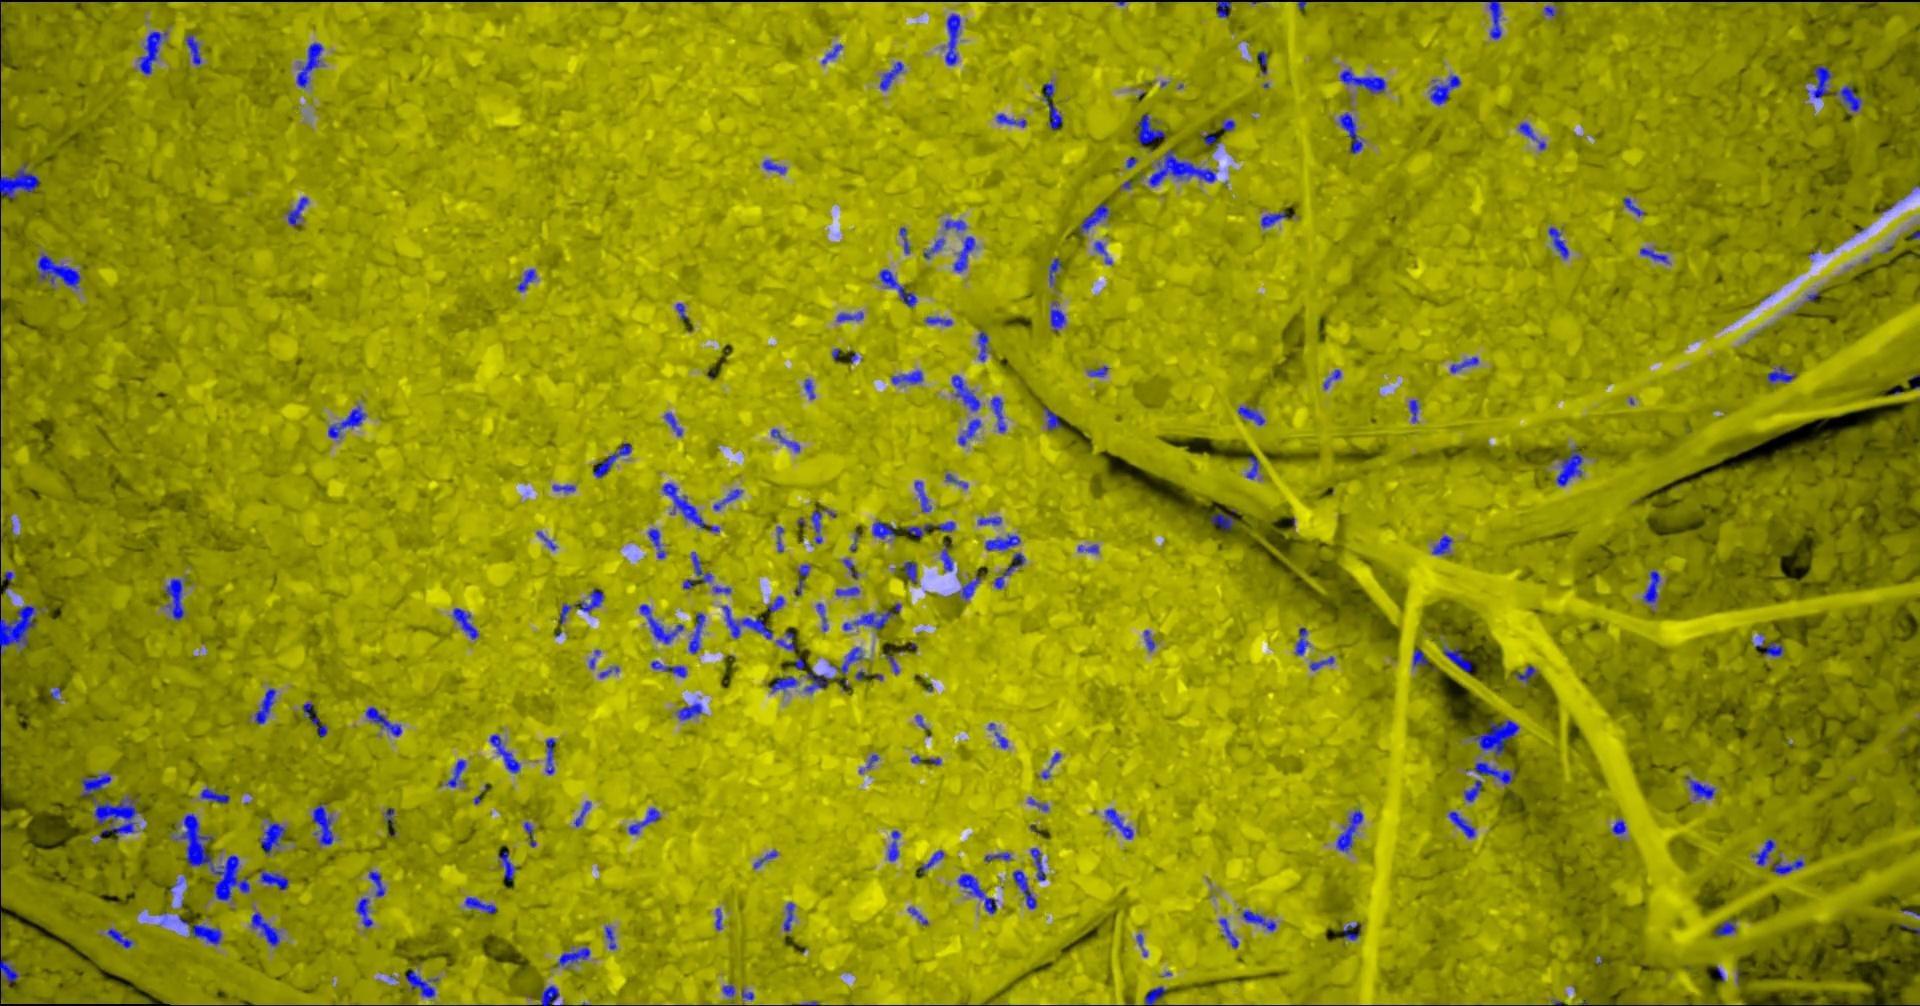ant: (1148, 149, 1215, 185), (662, 483, 707, 528), (0, 605, 41, 655), (639, 605, 683, 643), (1473, 719, 1519, 756), (721, 605, 772, 638), (842, 602, 902, 630), (957, 873, 996, 913), (37, 251, 79, 288), (0, 163, 38, 202), (879, 268, 916, 307), (592, 442, 631, 478), (328, 405, 364, 438), (138, 30, 166, 74), (296, 42, 323, 86), (489, 734, 519, 772), (1336, 808, 1363, 851), (682, 551, 712, 588), (994, 553, 1023, 589), (364, 706, 401, 735), (1338, 69, 1385, 91), (951, 373, 979, 412), (1556, 446, 1582, 485), (250, 911, 279, 946), (1338, 111, 1363, 152), (1429, 74, 1460, 105), (1078, 203, 1109, 235), (1137, 113, 1164, 147), (404, 969, 438, 997), (1012, 869, 1036, 908), (1103, 808, 1133, 840), (829, 647, 862, 674), (164, 578, 185, 620), (627, 807, 659, 835), (312, 801, 333, 845), (1043, 83, 1062, 128), (302, 702, 328, 737), (943, 13, 960, 65), (1832, 85, 1862, 114), (1474, 761, 1514, 782), (259, 821, 284, 854), (952, 236, 975, 272), (1807, 65, 1832, 97), (452, 607, 477, 639), (905, 521, 954, 537), (1517, 122, 1545, 150), (1443, 645, 1472, 672), (1448, 810, 1476, 837), (254, 688, 276, 723), (1685, 776, 1716, 800), (1242, 909, 1275, 931), (879, 61, 903, 90), (770, 428, 799, 452), (1547, 226, 1568, 258), (712, 488, 742, 511), (0, 954, 18, 991), (804, 667, 829, 692), (1751, 838, 1775, 865), (286, 197, 309, 225), (688, 612, 703, 653), (578, 588, 603, 612), (919, 848, 943, 874), (957, 418, 980, 445), (259, 869, 288, 889), (1218, 918, 1238, 948), (192, 923, 221, 944), (984, 533, 1020, 550), (650, 661, 686, 677), (556, 948, 589, 965), (444, 760, 465, 788), (1766, 365, 1796, 384), (497, 851, 516, 880), (463, 897, 497, 913), (1237, 405, 1263, 426), (1210, 509, 1237, 530), (105, 929, 133, 948), (1260, 211, 1291, 227), (648, 528, 665, 558), (961, 573, 980, 600), (184, 33, 201, 64), (1049, 301, 1065, 332), (914, 480, 931, 511), (1643, 570, 1658, 603), (1030, 847, 1045, 880), (356, 897, 372, 927), (1488, 0, 1501, 39), (990, 396, 1004, 432), (770, 674, 797, 692), (1771, 859, 1803, 874), (1639, 246, 1669, 263), (1449, 356, 1478, 372), (676, 702, 702, 720), (516, 268, 536, 291), (794, 564, 809, 594), (540, 984, 563, 1005), (1144, 984, 1167, 1005), (753, 848, 777, 868), (573, 800, 590, 826), (922, 238, 943, 258), (1622, 197, 1644, 216), (1043, 406, 1062, 429), (1512, 666, 1537, 683), (996, 113, 1026, 127), (891, 370, 922, 384), (822, 43, 842, 64), (1093, 241, 1111, 264), (664, 412, 682, 434), (872, 521, 895, 539), (1463, 779, 1481, 801), (1294, 627, 1308, 655), (201, 788, 229, 801), (1431, 535, 1451, 554), (940, 541, 952, 572), (368, 870, 383, 895), (907, 906, 927, 925), (1713, 917, 1735, 935), (943, 473, 968, 488), (810, 511, 822, 542), (775, 631, 794, 650), (888, 829, 899, 861), (545, 738, 555, 774), (1048, 257, 1060, 285), (1244, 455, 1258, 479), (1759, 641, 1783, 655), (1309, 655, 1333, 669), (559, 603, 575, 624), (977, 332, 988, 361), (762, 159, 785, 173), (902, 561, 916, 584), (1412, 648, 1429, 667), (523, 821, 535, 847), (783, 902, 794, 931), (1323, 370, 1340, 387), (1342, 922, 1359, 940), (836, 311, 863, 321), (885, 654, 899, 674), (842, 559, 857, 577), (817, 603, 827, 630), (1199, 133, 1218, 147), (899, 227, 909, 253), (767, 596, 783, 611), (924, 316, 952, 325), (983, 852, 1011, 861), (943, 218, 965, 230), (1087, 365, 1109, 376), (803, 379, 814, 399), (1408, 399, 1418, 422), (1143, 630, 1154, 650), (604, 926, 615, 949), (1217, 0, 1230, 17), (1611, 818, 1625, 835), (994, 730, 1007, 748), (599, 666, 618, 677), (977, 516, 1001, 525), (1258, 51, 1267, 74), (776, 526, 783, 553), (836, 586, 858, 594), (383, 807, 394, 826), (676, 304, 687, 320), (1077, 544, 1097, 553), (552, 484, 574, 492), (1220, 119, 1234, 131), (712, 586, 730, 593), (723, 984, 734, 996), (715, 908, 721, 929)
